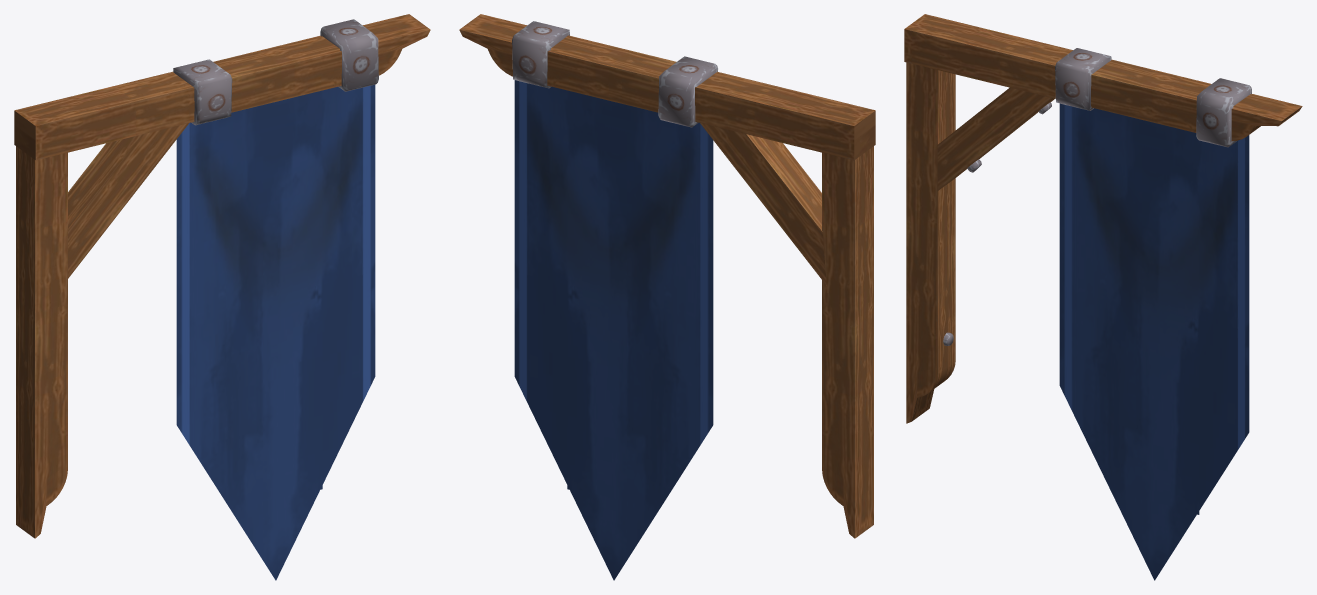
The model's file is banner_2.gltf.
3 views of the same model, side by side, from view 1: azimuth 30°, elevation 25°; view 2: azimuth 150°, elevation 25°; view 3: azimuth 330°, elevation 25° (orthographic). The views are drawn at different scales.
Visible parts, largest first — view 1: Banner_2; view 2: Banner_2; view 3: Banner_2.
Boxes of the visible parts, x1=… form: Banner_2: x1=14, y1=14, x2=430, y2=580; Banner_2: x1=459, y1=14, x2=875, y2=580; Banner_2: x1=904, y1=14, x2=1302, y2=580.
Bounding box in the file's own units: 1.61 × 2.08 × 0.1906.
Materials: 3 (3 with a texture image).
